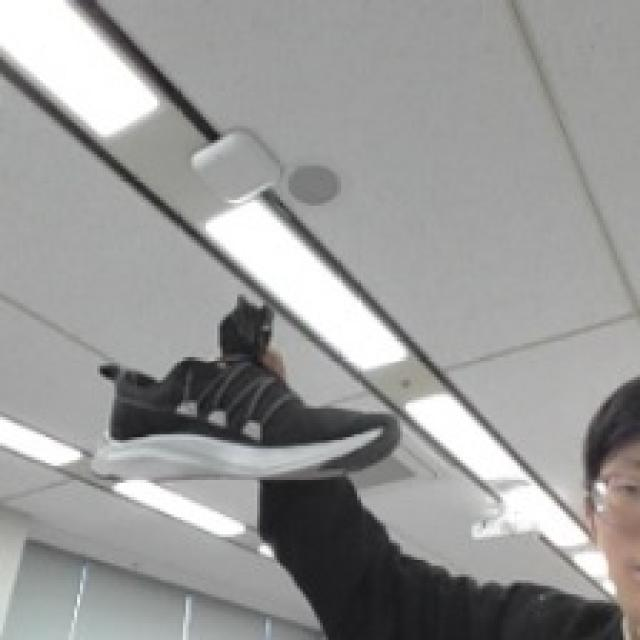shoe: (66, 306, 440, 538)
